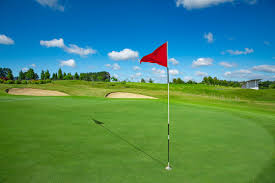Flag: (139, 41, 168, 68)
